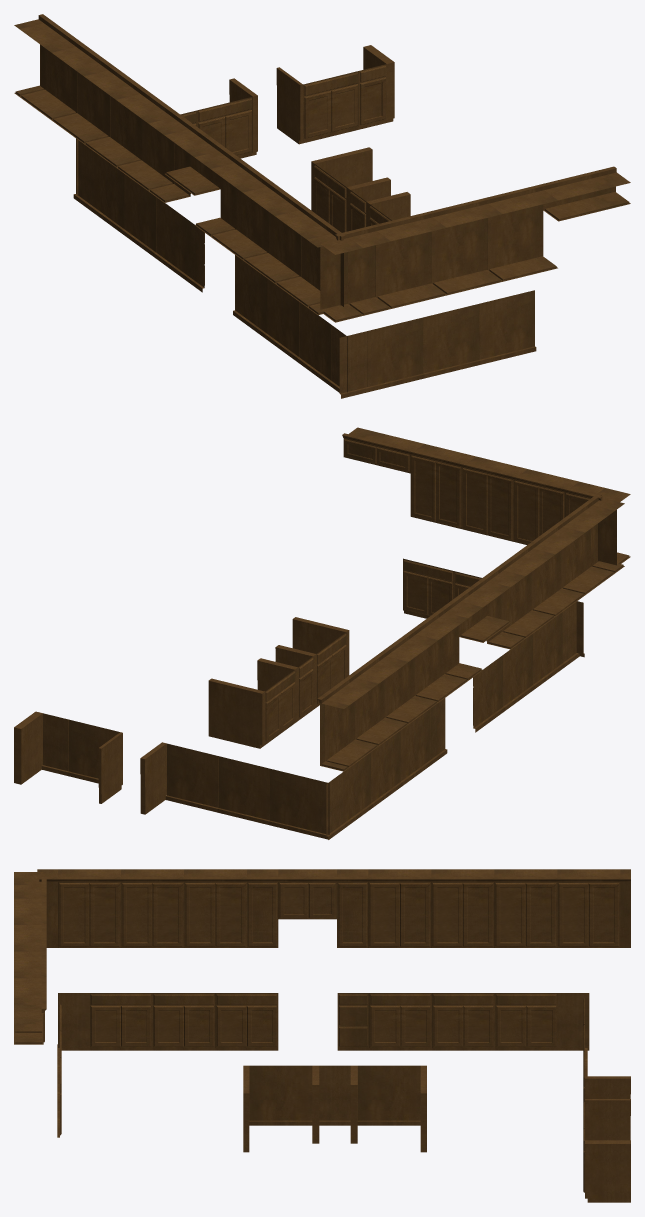
Rendered from cabinets_truffle.glb.
3 views of the same model, one above another, from view 1: azimuth 30°, elevation 25°; view 2: azimuth 150°, elevation 25°; view 3: azimuth 270°, elevation 25° (orthographic). The views are drawn at different scales.
Parts seen in each view (by area): view 1: Kitchen Cabinets Truffle; view 2: Kitchen Cabinets Truffle; view 3: Kitchen Cabinets Truffle.
Part boxes in pixels (box(x1,y1,x2,y2)): Kitchen Cabinets Truffle: box(14, 14, 630, 398); Kitchen Cabinets Truffle: box(14, 427, 630, 839); Kitchen Cabinets Truffle: box(14, 869, 630, 1202).
Bounding box in the file's own units: 6.4 × 2.93 × 9.8.
Materials: 1 (1 with a texture image).
